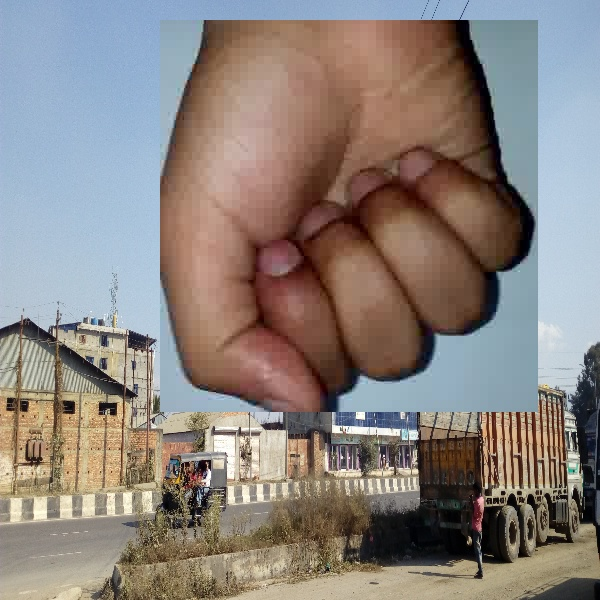A: (160, 20, 538, 412)
